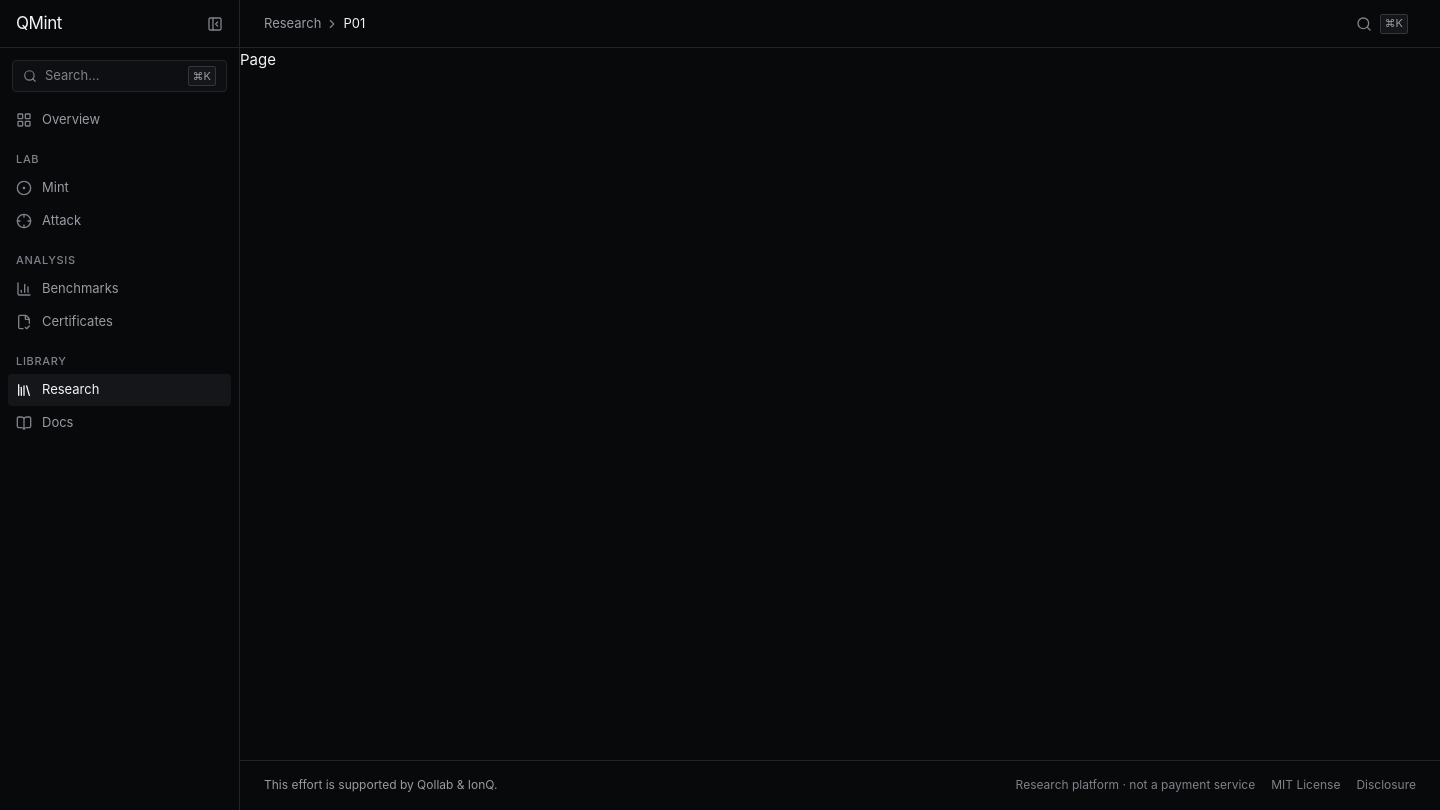
Test: AppShell › collapses the sidebar to a rail and remembers it
The width and height of the screenshot is (1440, 810).
Click the button named "Collapse sidebar".
click(215, 24)  # box 199,8 -> 231,40
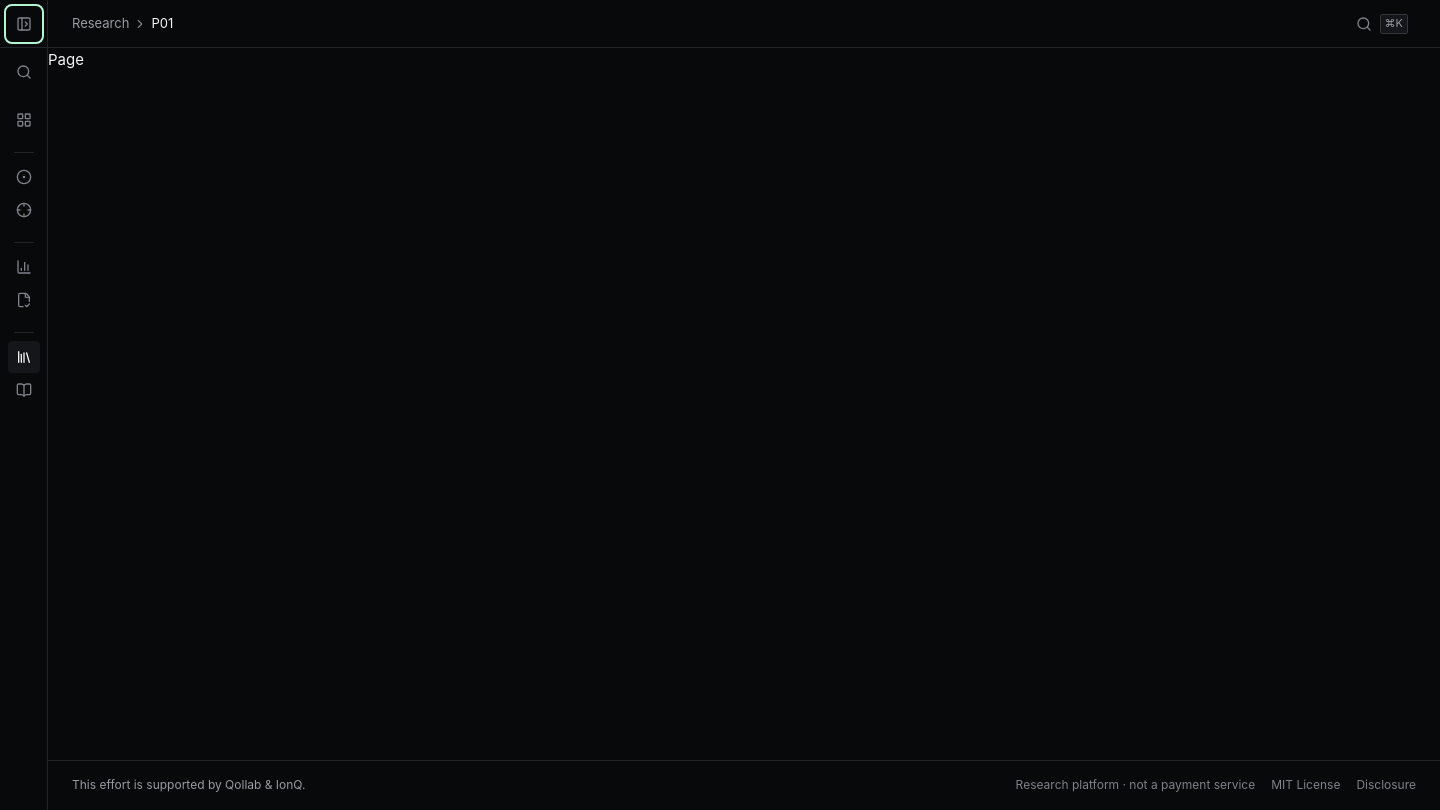
Expected: the button named "Expand sidebar" is collapsed, 8,8 -> 40,40
// "[" toggles back
Press [
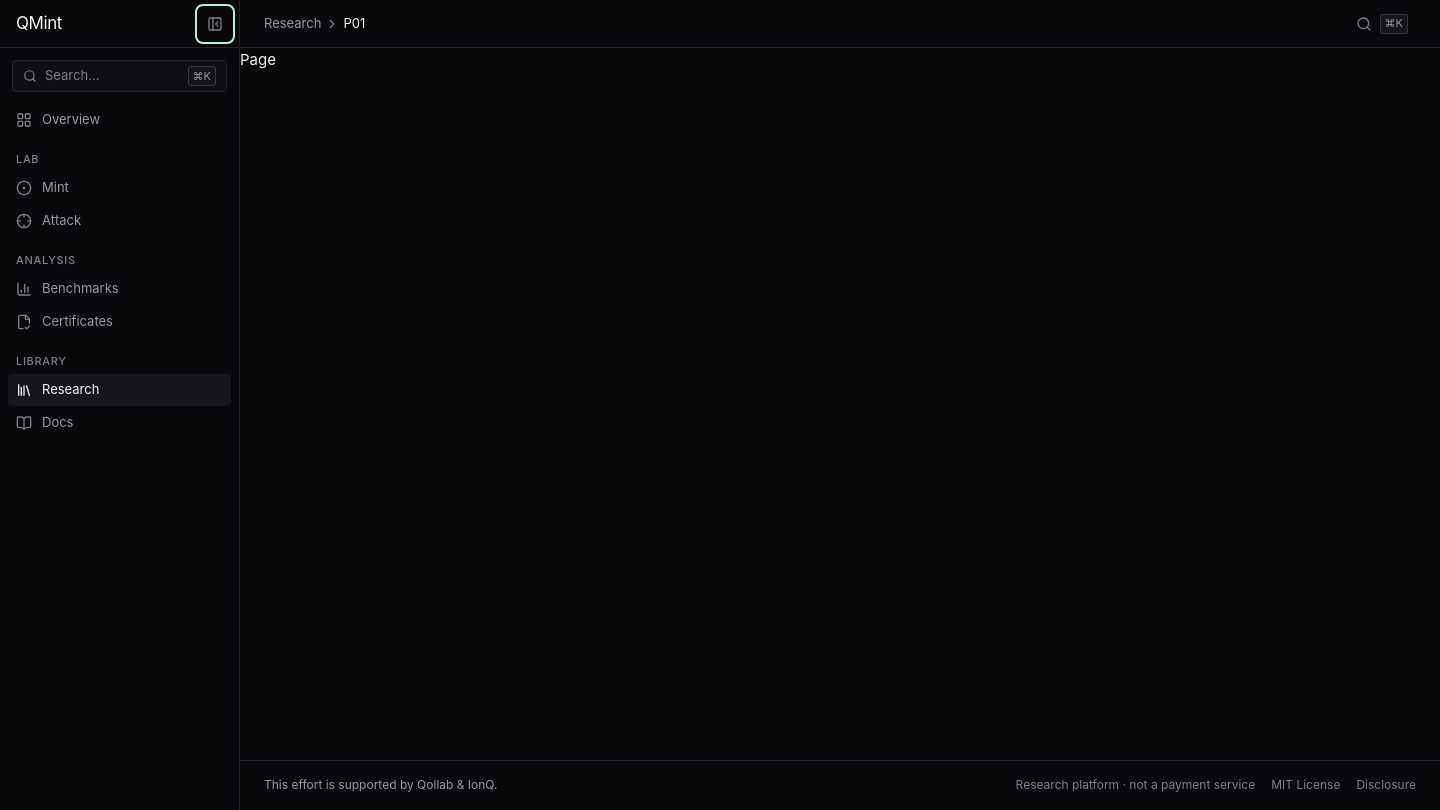
Expected: the button named "Collapse sidebar" is shown, 199,8 -> 231,40
